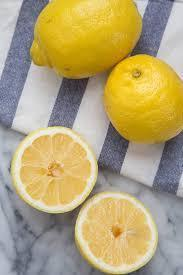lemon: (30, 0, 142, 79), (11, 125, 98, 214), (103, 53, 183, 144), (74, 191, 158, 275)
